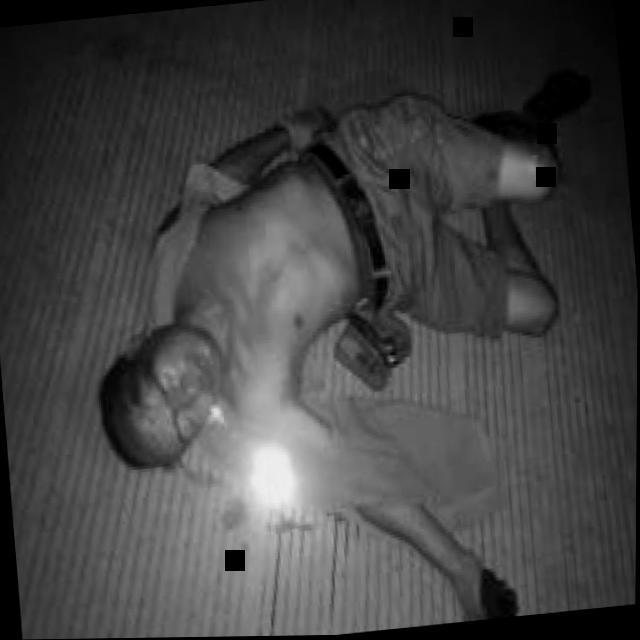Fall-Detected: (40, 23, 624, 639)
